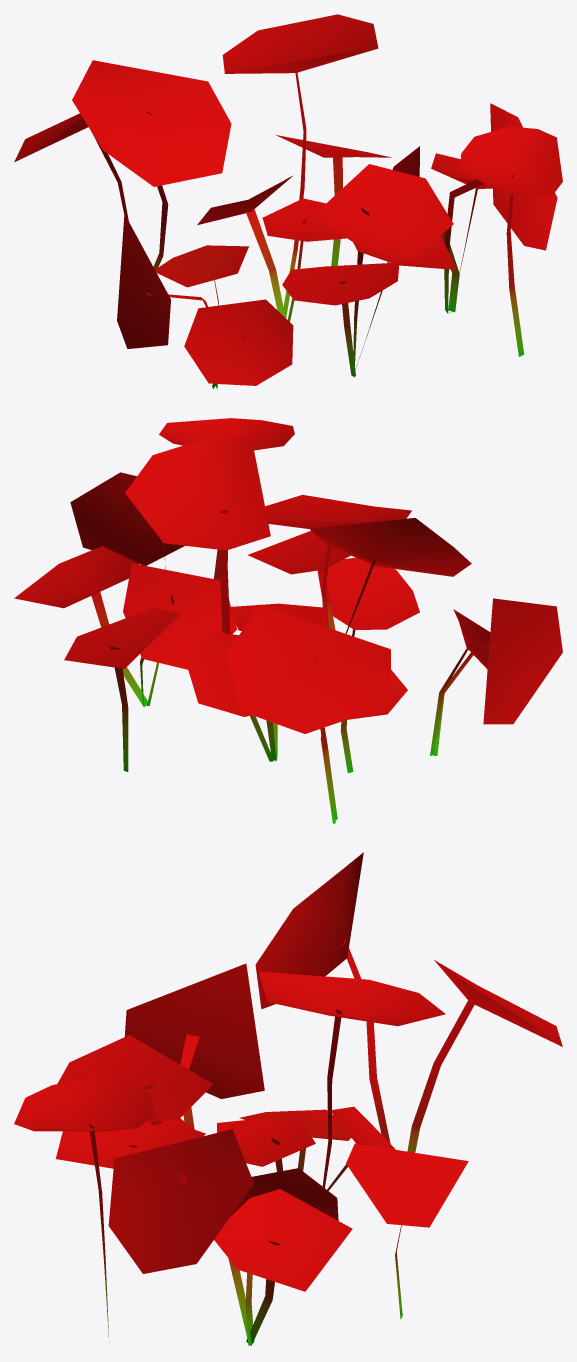
File: Var26_LOD4.fbx
3 renders of one model, top to bottom at view 1: azimuth 30°, elevation 25°; view 2: azimuth 150°, elevation 25°; view 3: azimuth 270°, elevation 25°, orthographic. The views are drawn at different scales.
Parts seen in each view (by area): view 1: _5lxp_Var26_LOD4; view 2: _5lxp_Var26_LOD4; view 3: _5lxp_Var26_LOD4.
Part boxes in pixels (left/top/right/bottom): _5lxp_Var26_LOD4: left=14, top=14, right=562, bottom=389; _5lxp_Var26_LOD4: left=14, top=418, right=562, bottom=823; _5lxp_Var26_LOD4: left=14, top=852, right=562, bottom=1345.
Size of the model in its own units: 21.7 by 13.78 by 21.02.
